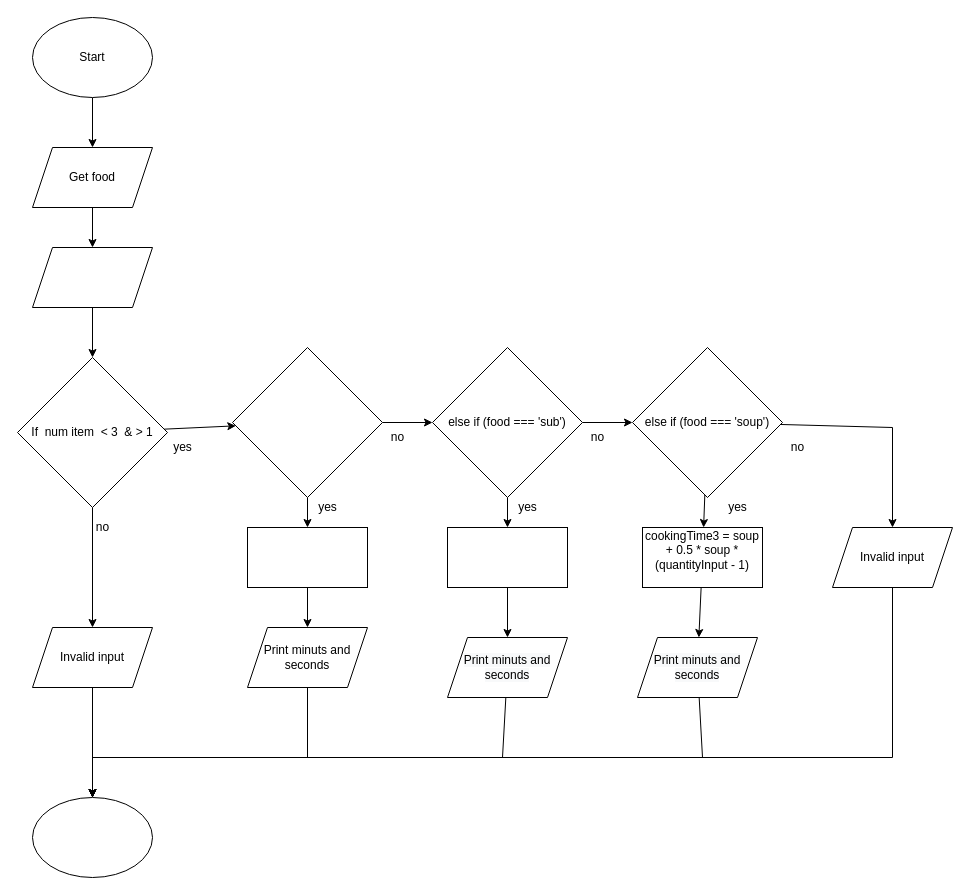
This 970x895 diagram has some shape labels left out. Each missing label, with the centre of its shape:
"cookingTime1 = pizza + 0.5 * pizza * (quantityInput - 1)" belongs at [307,557].
"cookingTime2 = sub + 0.5 * sub * (quantityInput - 1)" belongs at [507,557].
"Get num item" belongs at [92,277].
"if (food === 'pizza')" belongs at [307,422].
"Stop" belongs at [92,837].
